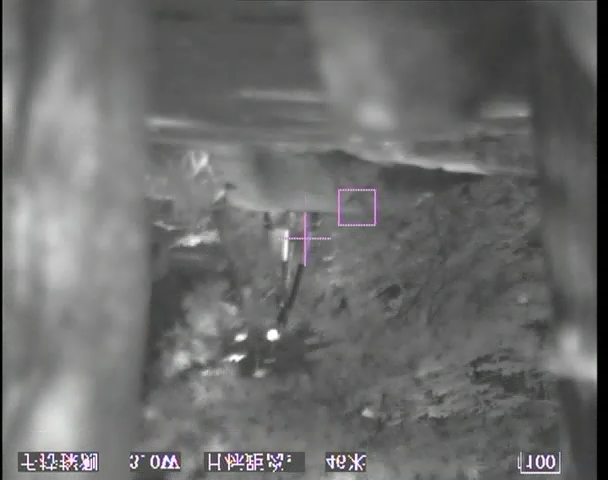my: (265, 327, 280, 343)
